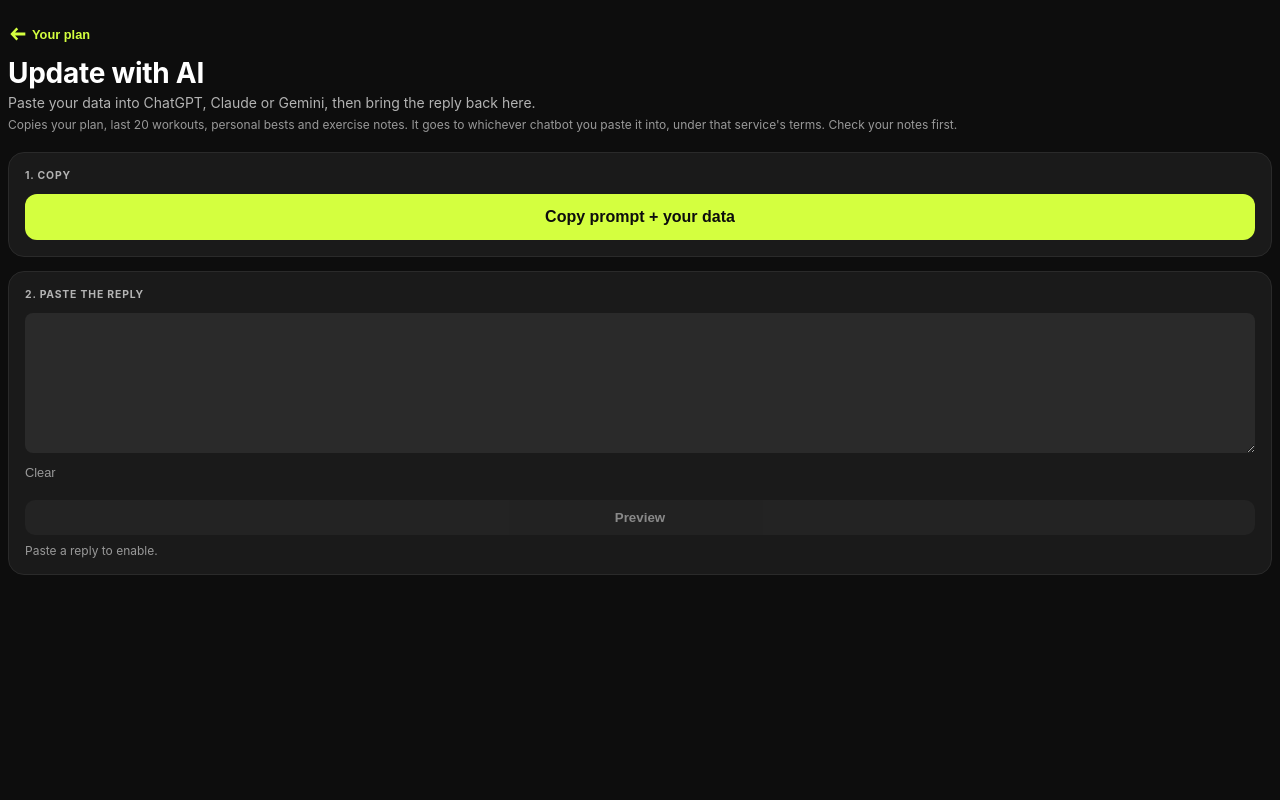
export › copies the prompt and the data as one block
Click the button "Copy prompt + your data": (640, 217) [25,194,1255,240]
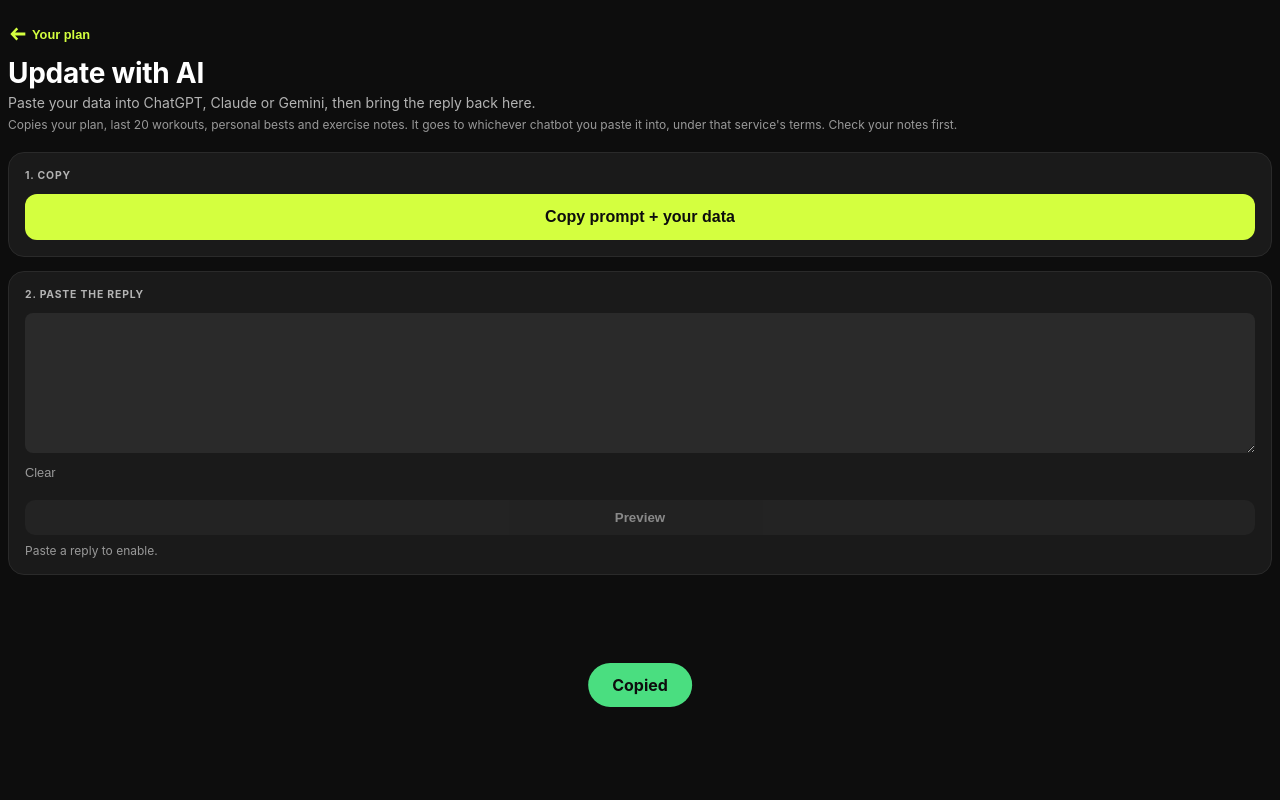
Result: the text "Copied" is shown at [588,663,692,707]
